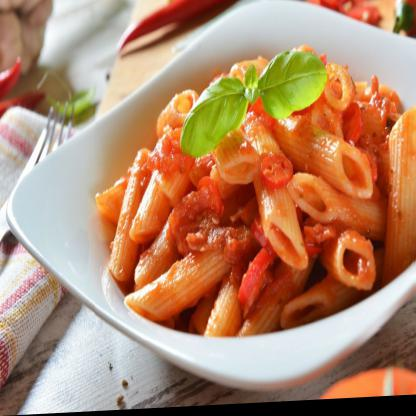pasta: (95, 44, 416, 345)
